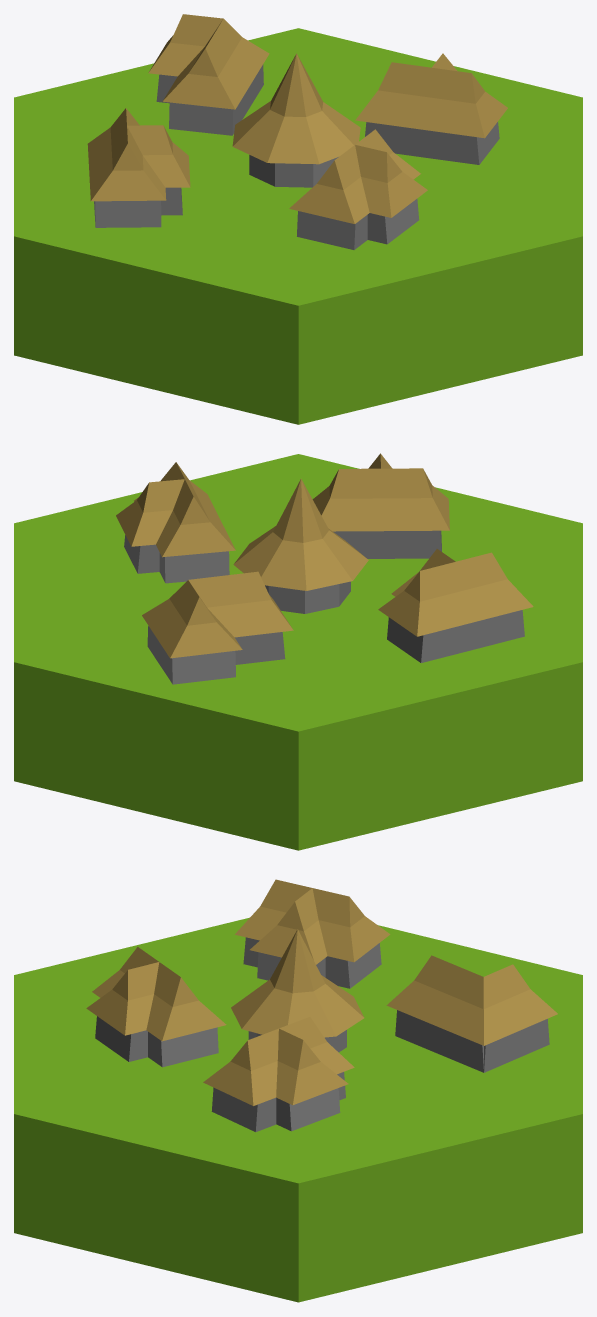
File: Casas_04.fbx
The picture shows the model from 3 angles, top to bottom: view 1: azimuth 30°, elevation 25°; view 2: azimuth 150°, elevation 25°; view 3: azimuth 270°, elevation 25°; orthographic projection.
Parts seen in each view (by area): view 1: Casas_04; view 2: Casas_04; view 3: Casas_04.
Boxes of the visible parts, x1,y1,x2,y2 form: Casas_04: (14, 14, 582, 424); Casas_04: (14, 453, 582, 850); Casas_04: (14, 879, 582, 1302).
Bounding box in the file's own units: 200 × 78.5 × 173.
